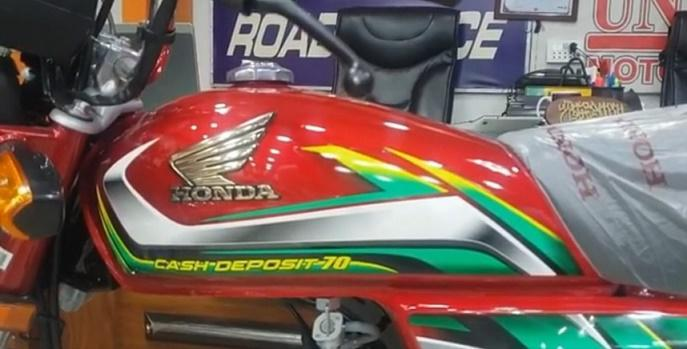bike: (1, 1, 687, 349)
